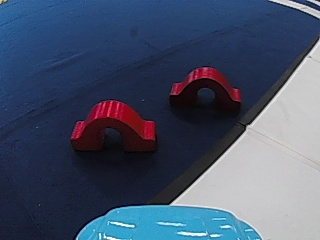bridge: (66, 95, 158, 153), (167, 62, 244, 112)
